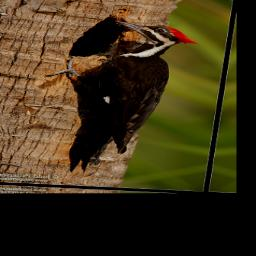Woodpecker: (29, 17, 203, 177)
